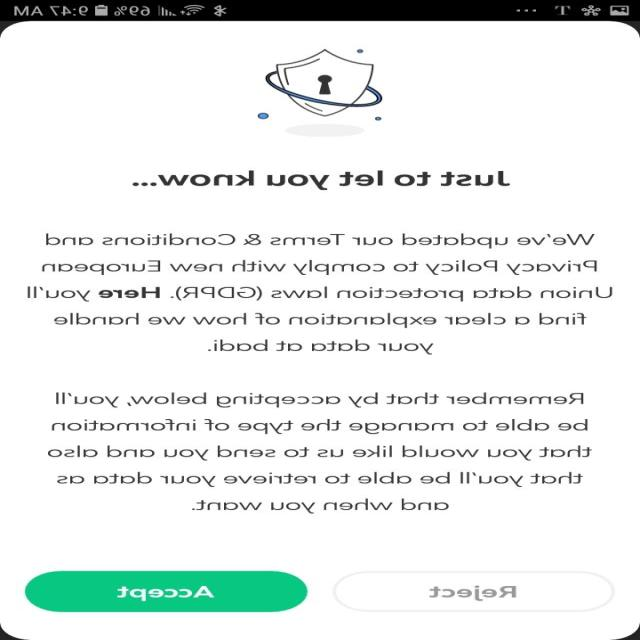Image: (257, 48, 383, 138)
Text: (27, 232, 614, 354), (48, 392, 593, 514), (133, 170, 512, 190)
TextButton: (332, 570, 616, 612), (25, 571, 308, 612)
